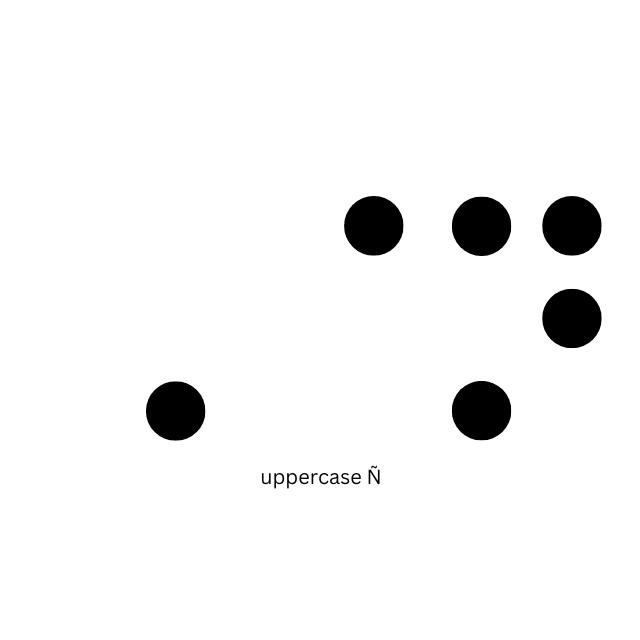capital_sign: (58, 197, 207, 442)
dot_4: (255, 195, 404, 440)
letter_N: (452, 196, 601, 441)
